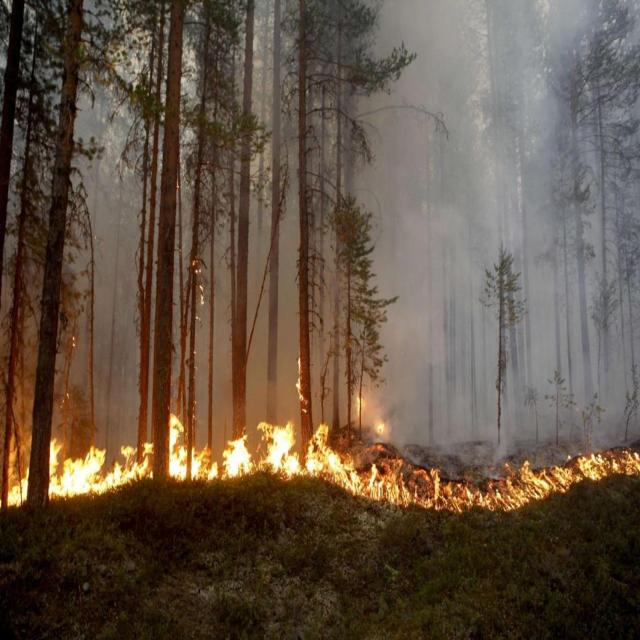fire: (485, 460, 562, 505), (571, 437, 640, 478), (313, 420, 349, 488), (61, 446, 100, 498), (438, 462, 472, 514), (370, 462, 406, 507), (265, 420, 291, 478), (116, 441, 148, 488), (225, 434, 248, 485), (169, 410, 184, 476), (7, 473, 27, 499)
smoke: (376, 22, 600, 404)
